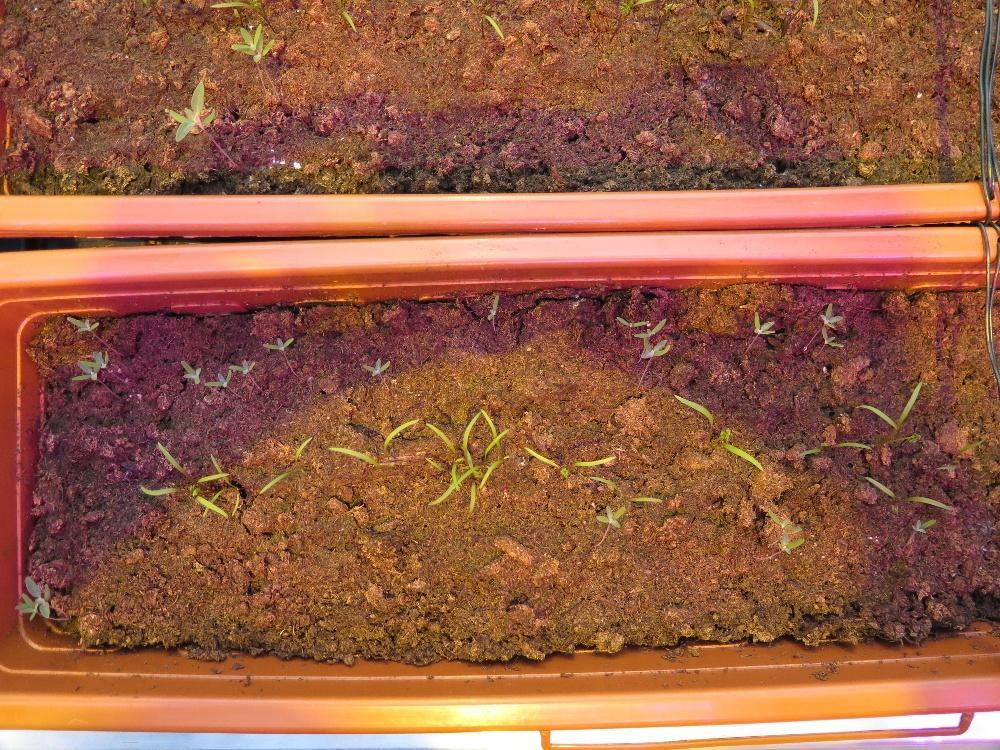weed: (766, 506, 802, 531), (594, 504, 625, 527), (775, 531, 805, 554), (361, 354, 389, 376), (178, 359, 200, 386), (64, 314, 98, 331), (751, 311, 775, 334), (261, 334, 293, 351), (203, 368, 230, 387), (909, 516, 935, 533), (614, 313, 647, 326), (485, 292, 498, 320)
